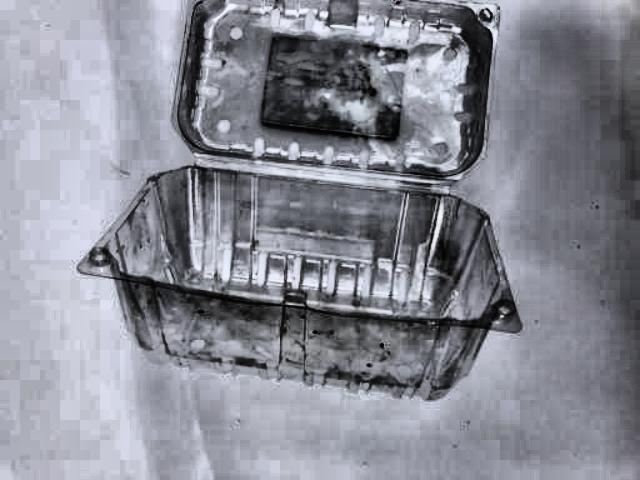Plastic: (71, 0, 534, 416)
